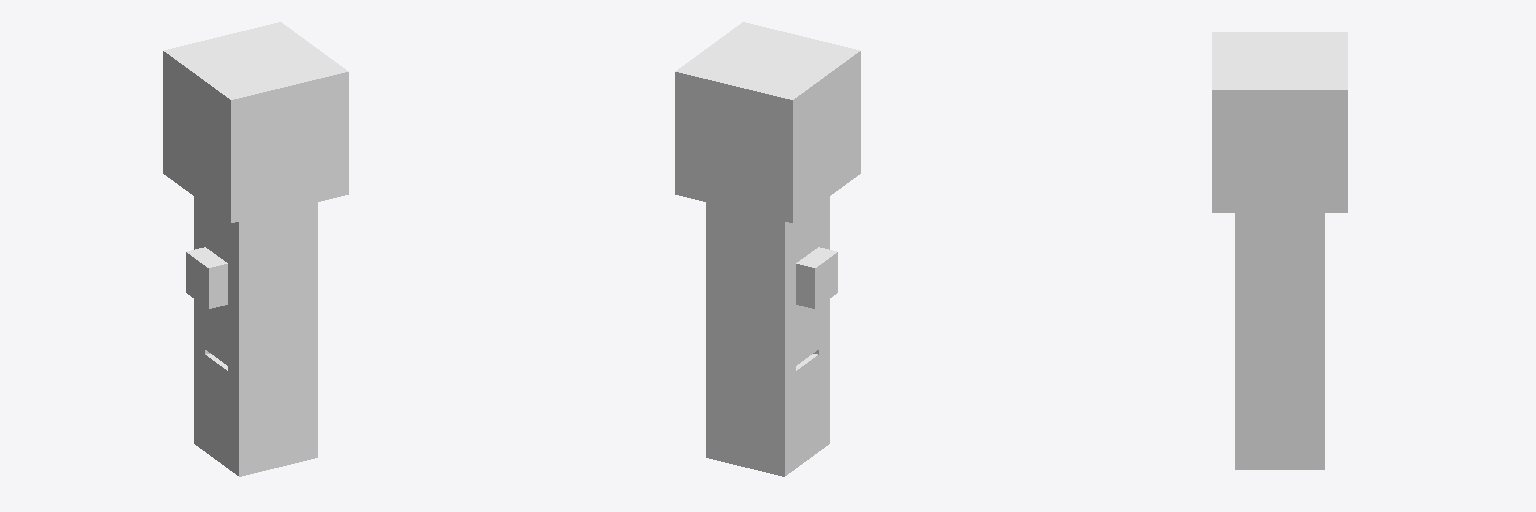
The model's file is obj.BatterEmpty.obj.
3 renders of one model, left to right at view 1: azimuth 30°, elevation 25°; view 2: azimuth 150°, elevation 25°; view 3: azimuth 270°, elevation 25°, orthographic.
Visible parts, largest first — view 1: object 1; view 2: object 1; view 3: object 1.
Part boxes in pixels (x1,y1,x2,y2): object 1: (163,22,348,476); object 1: (675,22,860,476); object 1: (1212,32,1347,469).
Bounding box in the file's own units: 2.4 × 7.6 × 2.4.